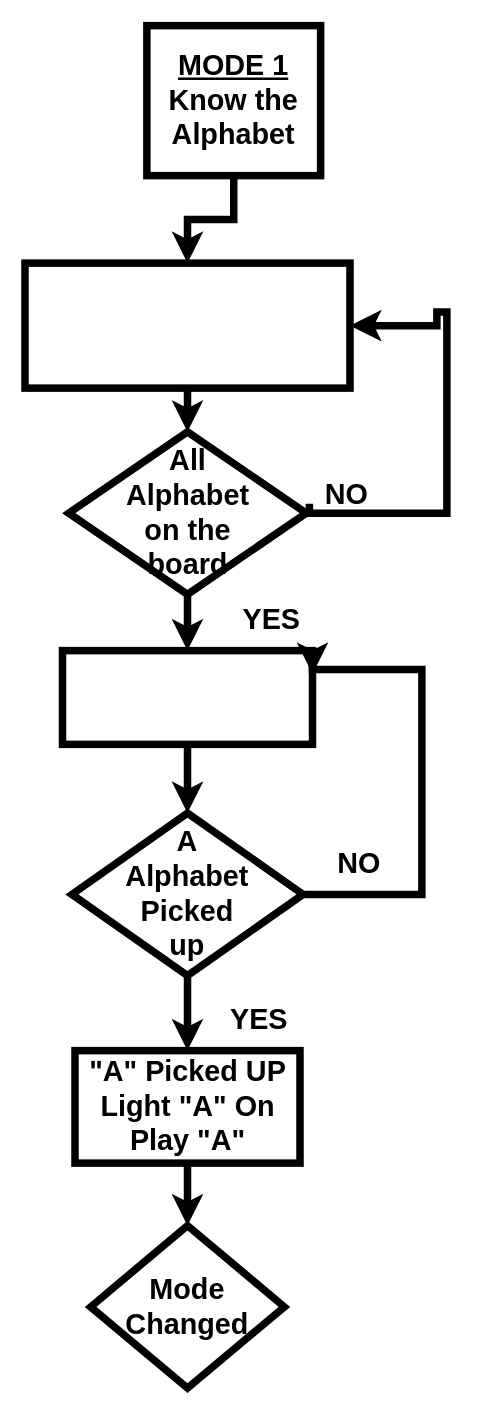
Image size: 483x1413. Some labels were removed from this diagram. Here are the shapes that lost their labels. From the top down, the centre of each, then its label:
the point at 187,325: Play "PUT ALL THE ALPHABET ON THE BOARD"
the point at 187,697: Play "PICK ANY ALPHABET"
